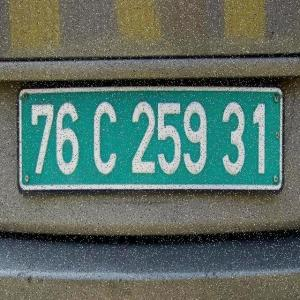Plate: (19, 86, 282, 192)
